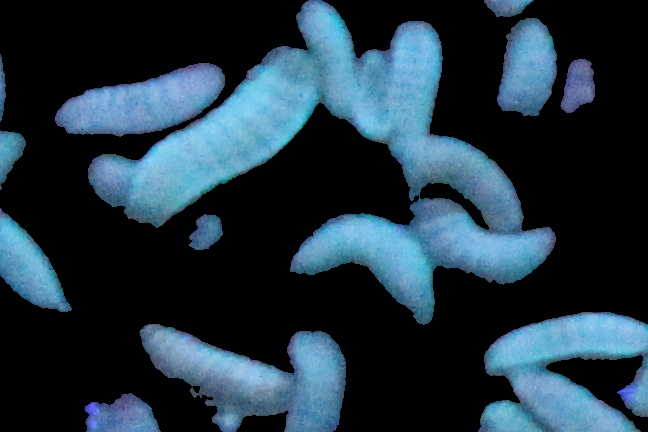larvae: (128, 32, 331, 227), (134, 321, 296, 421), (293, 203, 431, 317), (51, 49, 226, 134), (422, 198, 555, 286), (405, 133, 526, 228), (382, 8, 454, 161), (485, 311, 648, 372), (293, 1, 364, 131), (1, 207, 73, 316), (516, 366, 633, 432), (286, 326, 348, 432), (501, 14, 556, 119), (452, 1, 546, 18)
